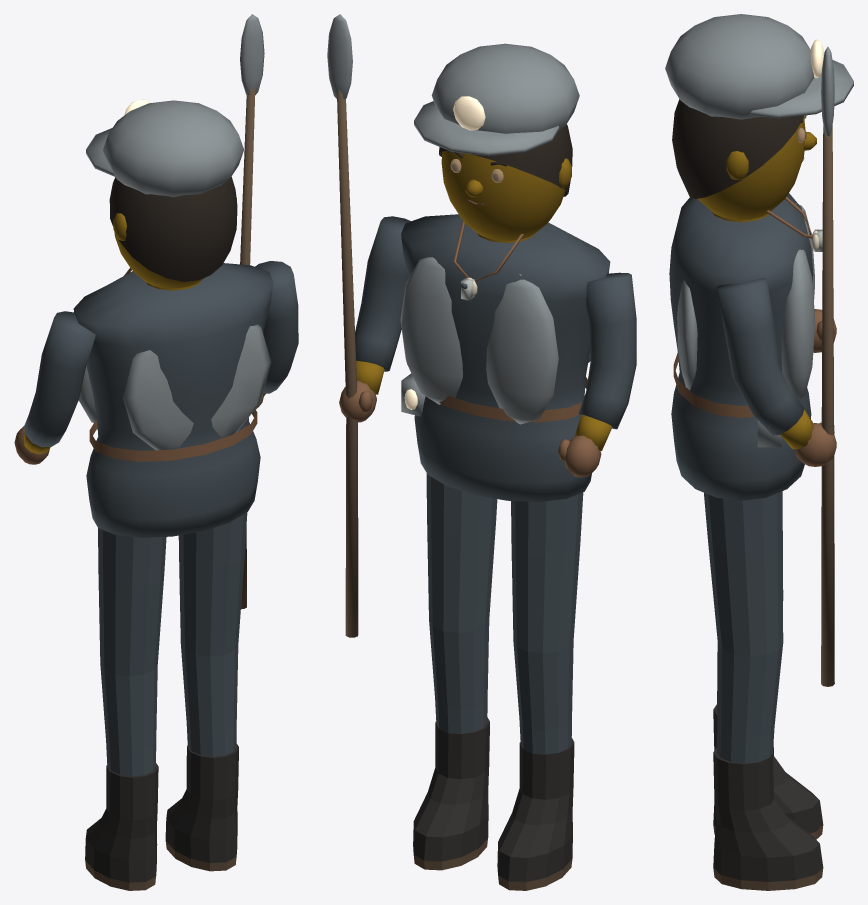
Rendered from SM_NPC_CALDERA.glb.
3 views of the same model, side by side, from view 1: azimuth 30°, elevation 25°; view 2: azimuth 150°, elevation 25°; view 3: azimuth 270°, elevation 25° (orthographic). The views are drawn at different scales.
Parts seen in each view (by area): view 1: SM_NPC_CALDERA_BODY, SM_NPC_CALDERA_LEG_L, SM_NPC_CALDERA_HAIR, SM_NPC_CALDERA_LEG_R, SM_NPC_CALDERA_ARM_R, SM_NPC_CALDERA_ARM_L, SM_NPC_CALDERA_HEAD; view 2: SM_NPC_CALDERA_BODY, SM_NPC_CALDERA_LEG_L, SM_NPC_CALDERA_LEG_R, SM_NPC_CALDERA_HAIR, SM_NPC_CALDERA_ARM_R, SM_NPC_CALDERA_ARM_L, SM_NPC_CALDERA_HEAD; view 3: SM_NPC_CALDERA_BODY, SM_NPC_CALDERA_LEG_R, SM_NPC_CALDERA_HAIR, SM_NPC_CALDERA_ARM_R, SM_NPC_CALDERA_HEAD, SM_NPC_CALDERA_LEG_L, SM_NPC_CALDERA_ARM_L.
Part boxes in pixels (x1,y1,x2,y2): SM_NPC_CALDERA_BODY: (73, 263, 273, 537); SM_NPC_CALDERA_LEG_L: (85, 528, 166, 890); SM_NPC_CALDERA_HAIR: (86, 99, 243, 281); SM_NPC_CALDERA_LEG_R: (165, 512, 247, 871); SM_NPC_CALDERA_ARM_R: (240, 14, 298, 609); SM_NPC_CALDERA_ARM_L: (14, 311, 95, 464); SM_NPC_CALDERA_HEAD: (113, 198, 236, 288); SM_NPC_CALDERA_BODY: (400, 214, 610, 501); SM_NPC_CALDERA_LEG_L: (497, 492, 583, 890); SM_NPC_CALDERA_LEG_R: (413, 473, 497, 870); SM_NPC_CALDERA_HAIR: (414, 43, 579, 196); SM_NPC_CALDERA_ARM_R: (327, 14, 410, 637); SM_NPC_CALDERA_ARM_L: (558, 272, 636, 477); SM_NPC_CALDERA_HEAD: (441, 151, 571, 240); SM_NPC_CALDERA_BODY: (669, 193, 822, 500); SM_NPC_CALDERA_LEG_R: (704, 491, 823, 890); SM_NPC_CALDERA_HAIR: (665, 14, 853, 198); SM_NPC_CALDERA_ARM_R: (716, 46, 836, 686); SM_NPC_CALDERA_HEAD: (698, 117, 816, 220); SM_NPC_CALDERA_LEG_L: (713, 491, 823, 839); SM_NPC_CALDERA_ARM_L: (813, 309, 836, 352).
Size of the model in its own units: 0.7035 by 2.07 by 0.4062.
